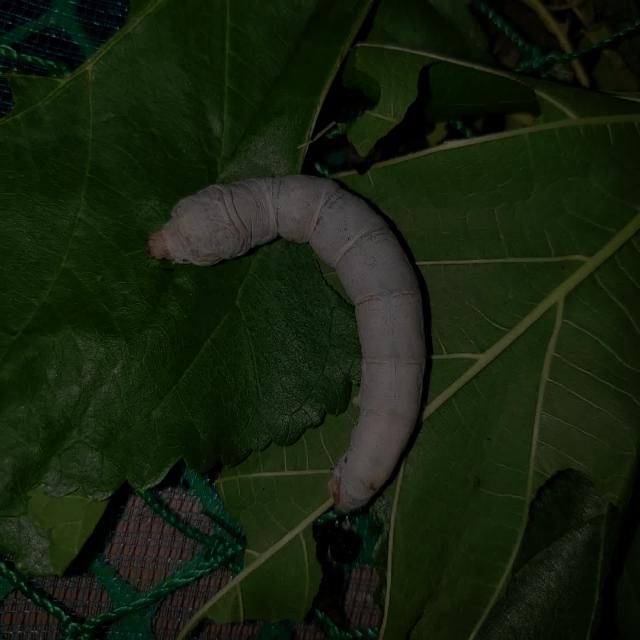Healthy: (136, 162, 448, 526)
